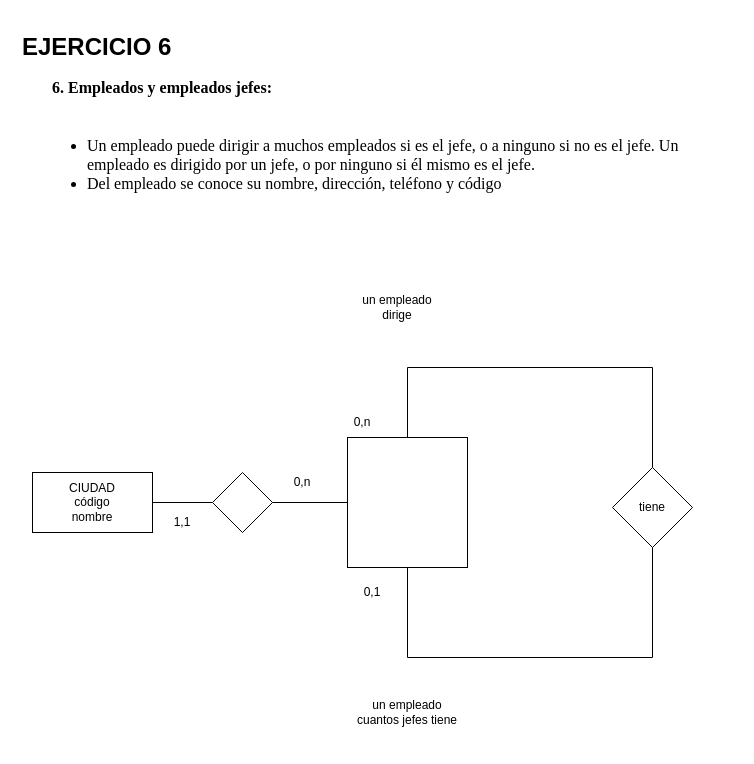
Some shapes in this 754 by 764 pixel diagram are drawn without their labels. The centre of each missing label's shape, as x and y in pixels:
"EMPLEADO nombre apellido1 apellido2 (op) teléfono código dirección" belongs at (407,502).
"vive" belongs at (242,502).
